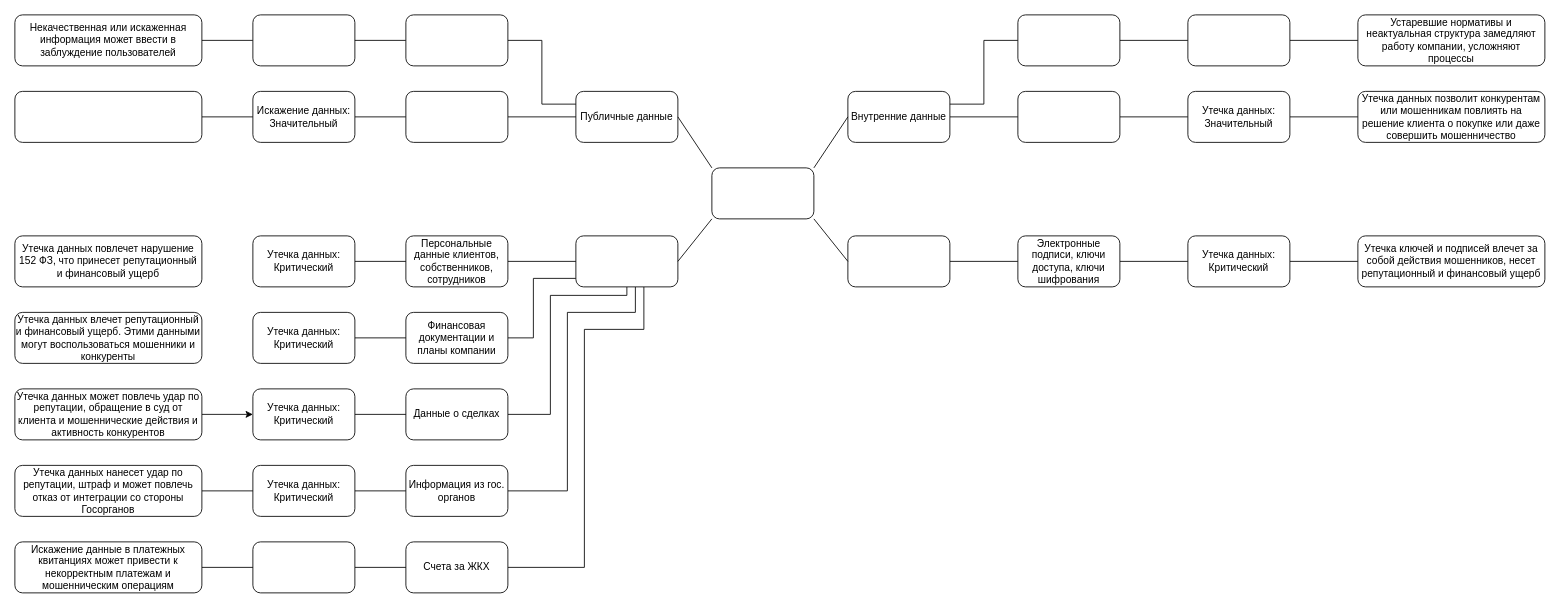
Image size: 1560x608. Some labels were removed from this diagram. The shapes that lost their labels are listed below. From the top down, each one's centre as x and y in pixels, then its label:
At point (303, 40): "Некачественные данные: Незначительный".
At point (456, 40): "Информация от УК, данные о запланированных ремонтах".
At point (1068, 40): "Структура компании, нормативная документация".
At point (1238, 40): "Обесценивание данных: Незначительный".
At point (108, 116): "Искаженная информация может нанести репутационный ущерб, снизить поток клиентов".
At point (456, 116): "Маркетинговая информация об объектах недвижимости".
At point (1068, 116): "Информация о просмотрах, бронированиях".
At point (762, 193): "Безопасность данных".
At point (626, 261): "Конфиденциальные данные".
At point (898, 261): "Секретные данные".
At point (303, 567): "Искажение данных: Критический".
